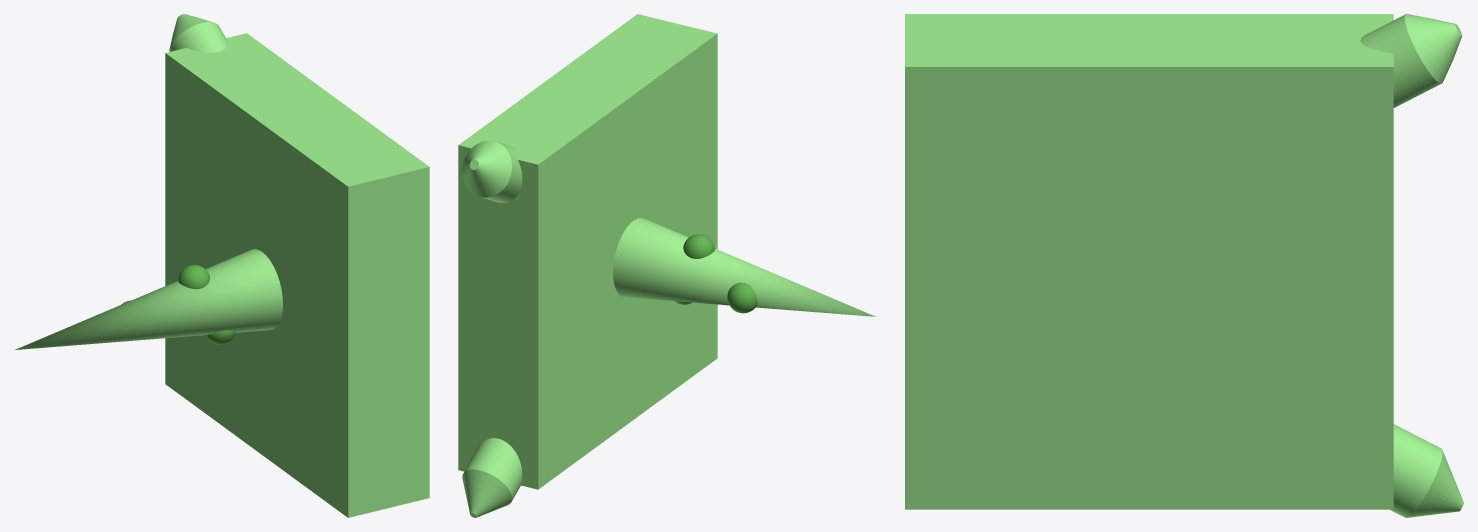
The model's file is pet-greg.glb.
3 views of the same model, side by side, from view 1: azimuth 30°, elevation 25°; view 2: azimuth 150°, elevation 25°; view 3: azimuth 270°, elevation 25° (orthographic). The views are drawn at different scales.
Bounding box in the file's own units: 23.25 × 25.05 × 25.56.
